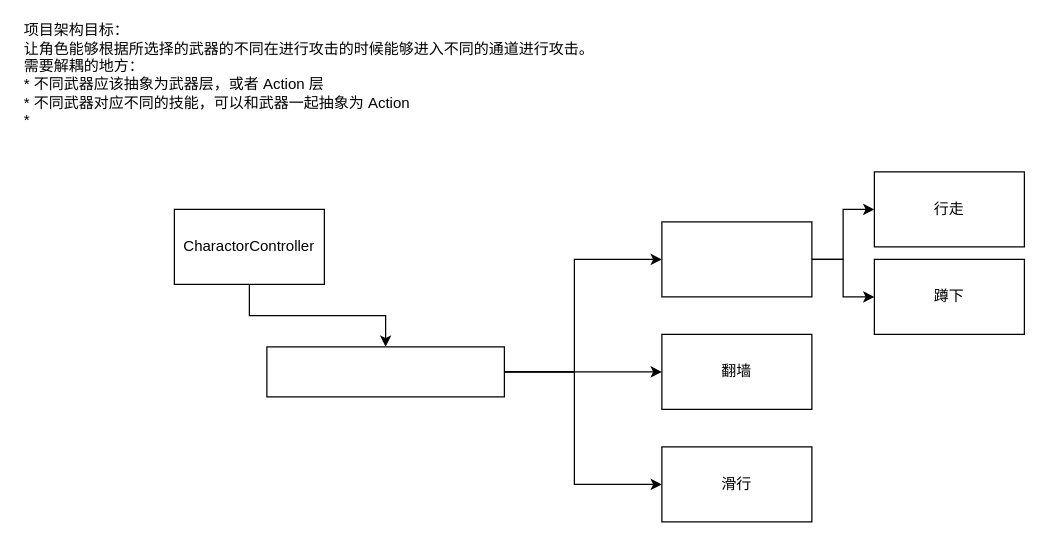
This 1046x544 diagram has some shape labels left out. Here are the shapes that lost their labels. From the top down, the box of each, then its label:
(661, 221, 812, 297): 基础移动
(266, 346, 504, 397): locomotion FSM
